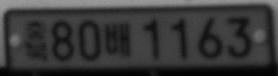0: (77, 19, 101, 61)
1: (168, 17, 192, 61), (141, 17, 165, 60)
3: (226, 16, 253, 58)
6: (197, 16, 223, 59)
8: (50, 19, 74, 61)
배: (104, 22, 131, 56)
충북_V: (23, 19, 49, 62)
